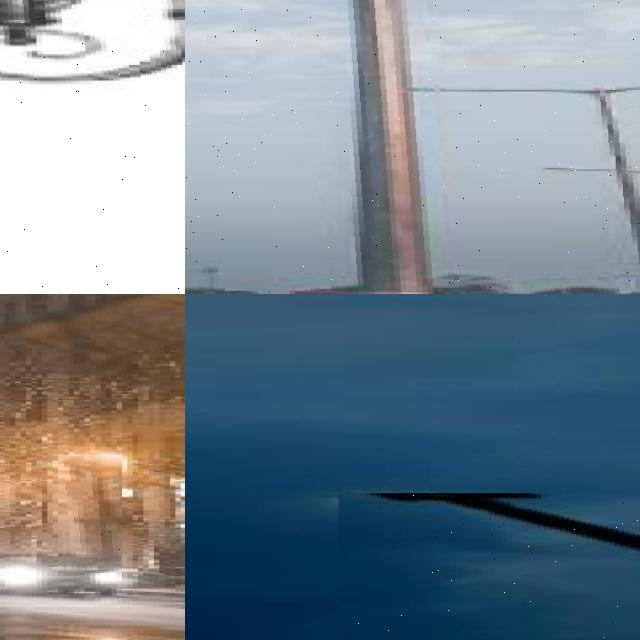street light: (185, 0, 640, 294), (362, 96, 640, 294), (0, 0, 185, 294), (338, 493, 640, 640), (485, 177, 640, 294), (58, 456, 122, 573), (560, 213, 640, 294), (613, 233, 640, 294)
